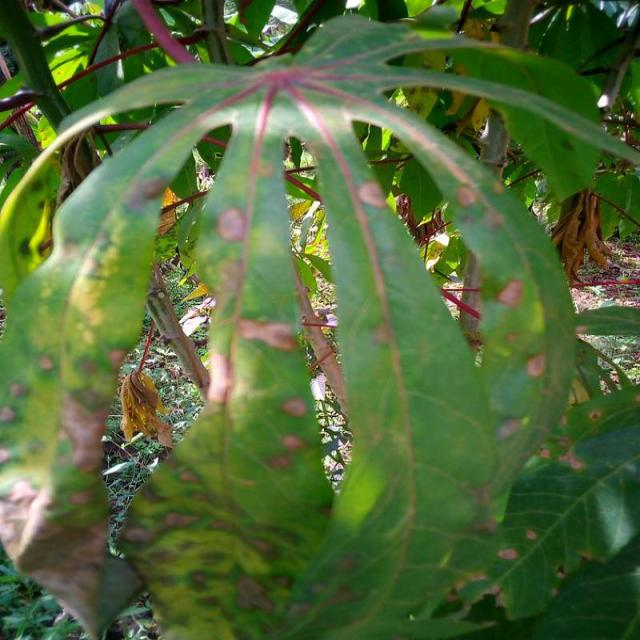cassava leaf: (1, 4, 637, 638)
